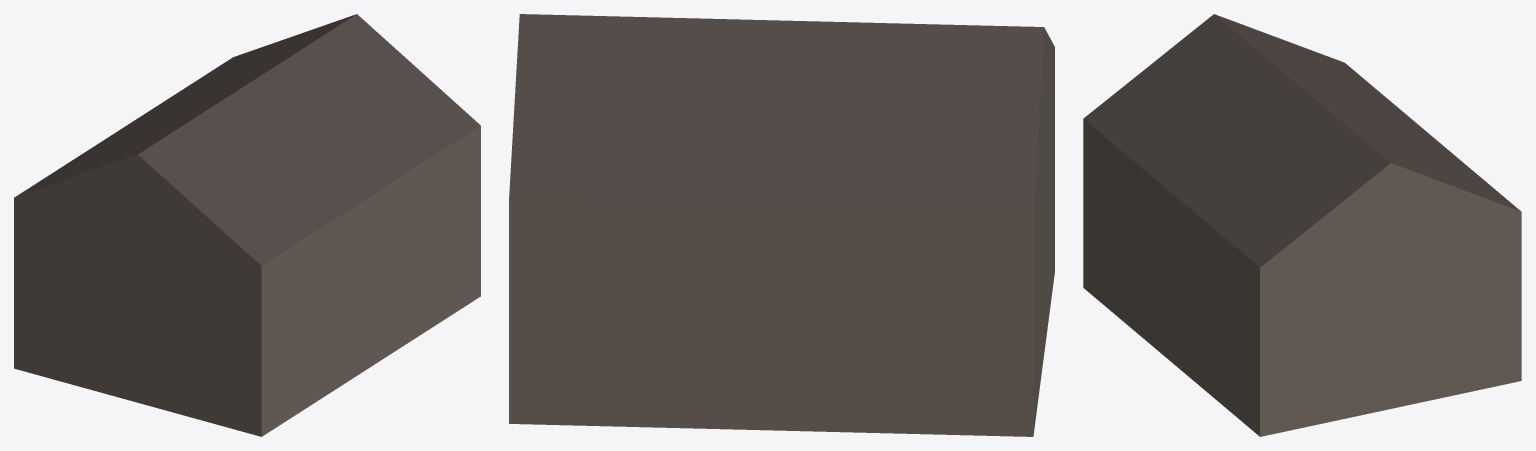
3 views of the same model, side by side, from view 1: azimuth 30°, elevation 25°; view 2: azimuth 150°, elevation 25°; view 3: azimuth 270°, elevation 25° (orthographic). The views are drawn at different scales.
Visible parts, largest first — view 1: HP-w859088456; view 2: HP-w859088456; view 3: HP-w859088456.
Boxes of the visible parts, x1,y1,x2,y2 form: HP-w859088456: (14,14,480,436); HP-w859088456: (509,14,1054,436); HP-w859088456: (1083,14,1521,436).
Size of the model in its own units: 23.37 by 13.08 by 21.11.
